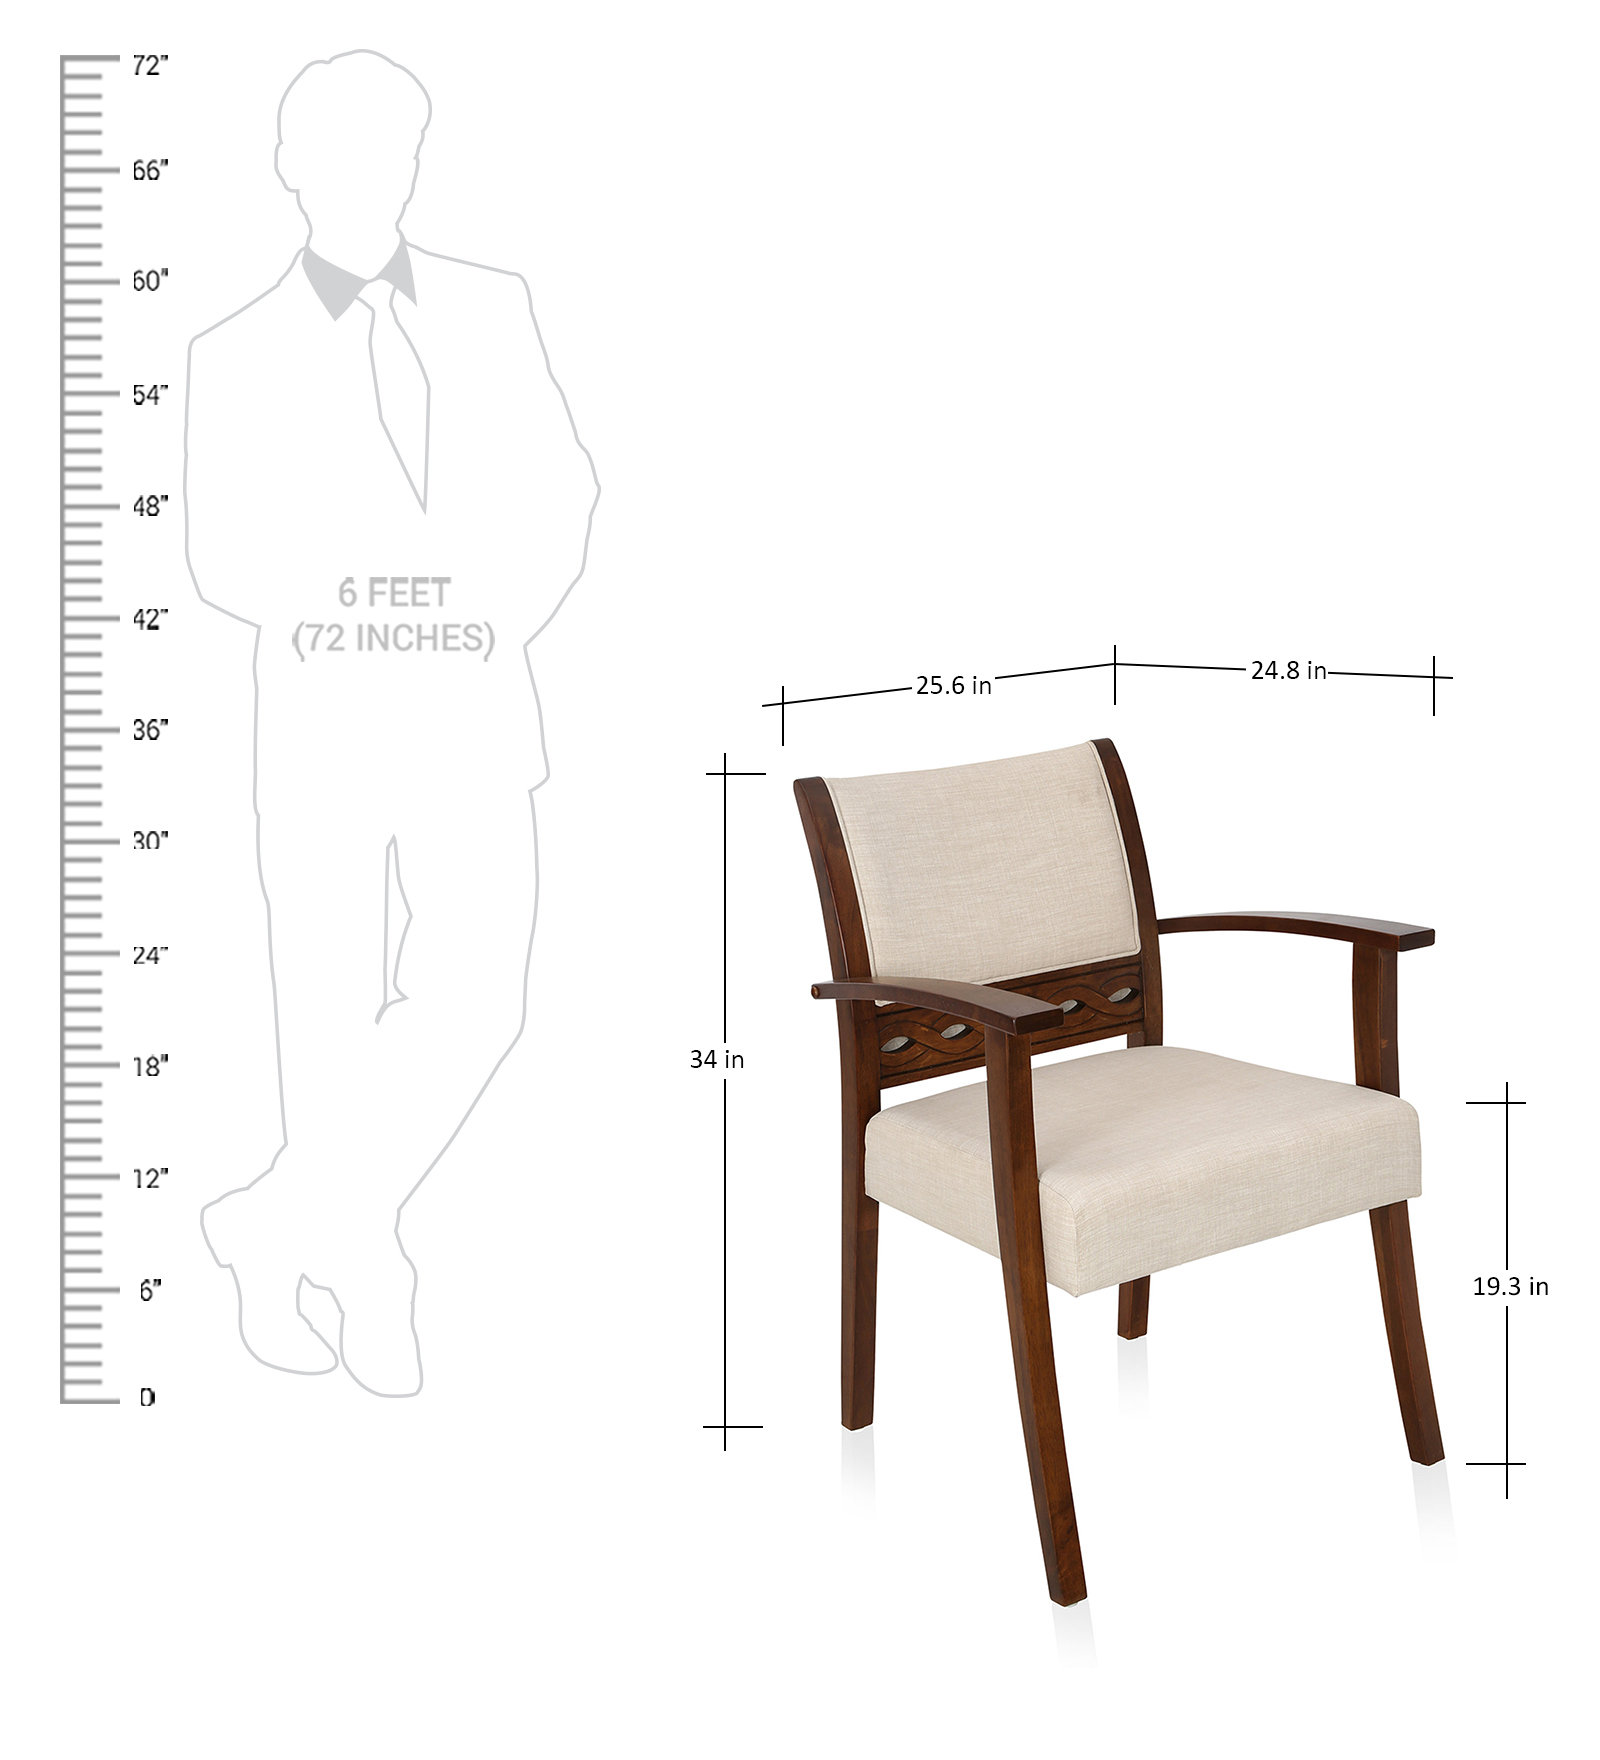Zinnia Arm Chair in Beige Colour by @ Home: (779, 757, 1444, 1630)
